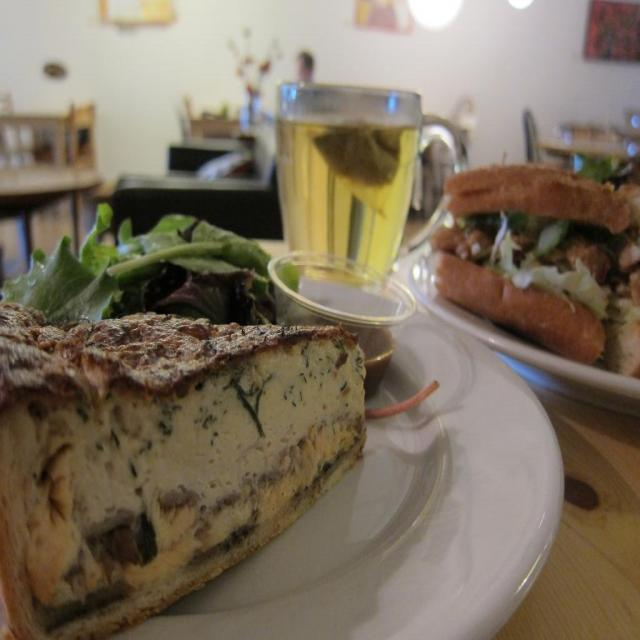Sandwich: (0, 304, 368, 640), (429, 157, 639, 376)
